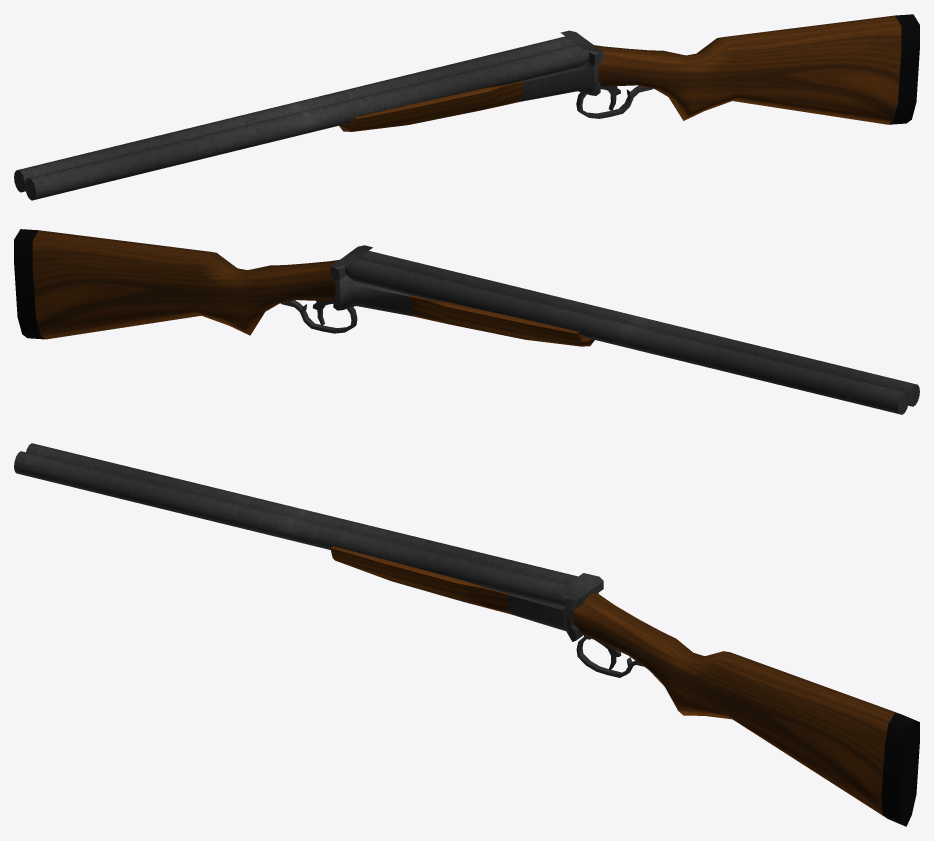
File: ShotgunPick.fbx
The picture shows the model from 3 angles, top to bottom: view 1: azimuth 30°, elevation 25°; view 2: azimuth 150°, elevation 25°; view 3: azimuth 330°, elevation 25°; orthographic projection.
Visible parts, largest first — view 1: ShotgunPick; view 2: ShotgunPick; view 3: ShotgunPick.
Boxes of the visible parts, bbox=[...] form: ShotgunPick: bbox=[14, 14, 919, 200]; ShotgunPick: bbox=[14, 229, 919, 414]; ShotgunPick: bbox=[14, 443, 919, 826].
Bounding box in the file's own units: 7.87 × 1.39 × 0.4669.
1 material, 1 textured.
